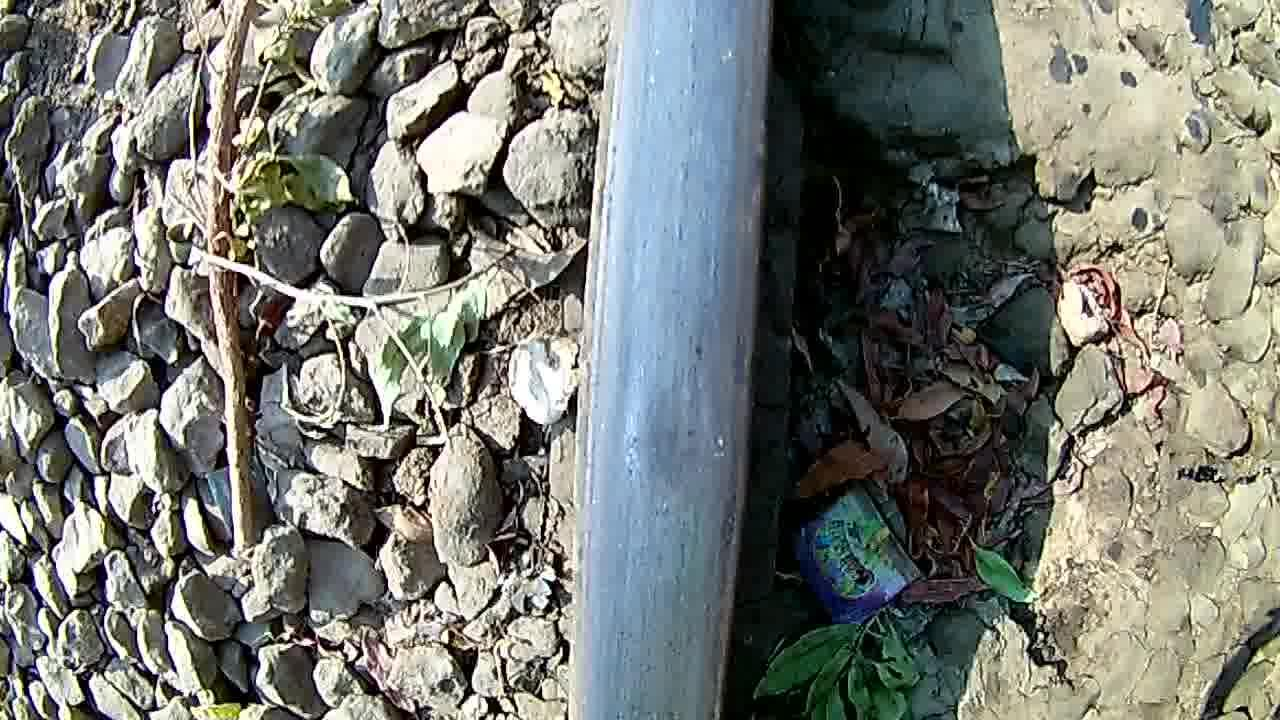bolt_missing: (596, 314, 762, 580)
